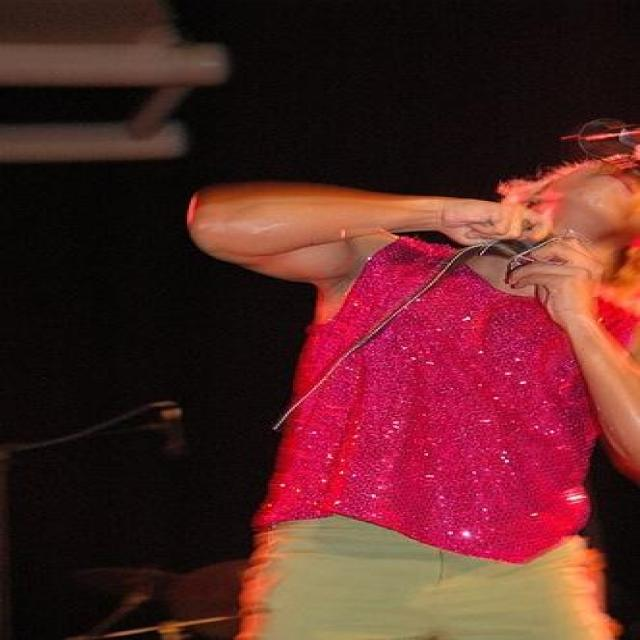No_Gloves: (433, 180, 547, 250), (512, 238, 607, 317)
